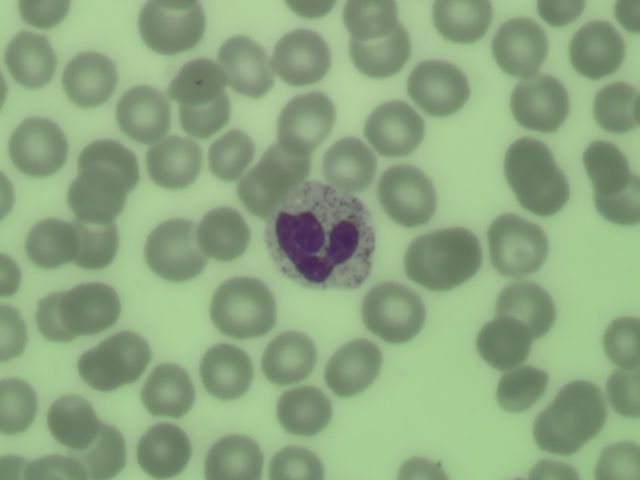RBC: (501, 144, 565, 210), (413, 232, 478, 283), (212, 280, 270, 334), (85, 338, 142, 389), (144, 1, 200, 49), (480, 320, 529, 370), (414, 59, 463, 109), (354, 23, 403, 73), (368, 288, 417, 338), (327, 343, 376, 393), (266, 332, 315, 382), (280, 387, 329, 437), (207, 430, 256, 480), (200, 347, 249, 397), (139, 425, 188, 475), (143, 366, 192, 416), (75, 426, 124, 476), (69, 285, 118, 335), (22, 219, 71, 269), (71, 220, 120, 270), (74, 171, 123, 221), (148, 225, 197, 275), (199, 208, 248, 258), (240, 162, 289, 212), (260, 140, 309, 190), (283, 96, 332, 146), (205, 132, 254, 182), (277, 33, 326, 83), (223, 40, 272, 90), (179, 86, 228, 136), (118, 88, 167, 138), (13, 119, 62, 169), (63, 53, 112, 103), (7, 34, 56, 84), (591, 177, 640, 227), (581, 142, 630, 192), (591, 80, 640, 130), (571, 21, 620, 71), (495, 18, 544, 68), (518, 80, 567, 130), (496, 220, 545, 270), (384, 170, 433, 220), (502, 279, 551, 329), (534, 410, 583, 460), (557, 380, 606, 430), (148, 136, 197, 185), (323, 141, 374, 188), (370, 105, 420, 152), (1, 374, 38, 435), (82, 139, 137, 178), (340, 1, 401, 35), (172, 58, 219, 101), (35, 288, 78, 334), (270, 445, 326, 480), (497, 372, 549, 409), (606, 362, 640, 418), (397, 445, 450, 480), (440, 1, 489, 38), (603, 316, 640, 364), (27, 450, 83, 480), (51, 400, 91, 440), (1, 307, 30, 362), (594, 445, 640, 479), (18, 1, 69, 26), (539, 1, 580, 28)
WBC: (271, 188, 373, 288)
